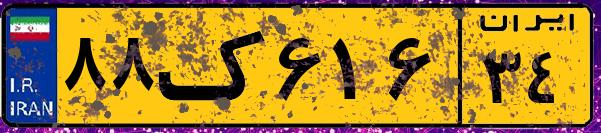1: (330, 28, 385, 110)
3: (475, 38, 525, 113)
4: (525, 38, 570, 115)
6: (270, 28, 330, 110), (385, 28, 445, 110)
8: (57, 26, 110, 100), (110, 28, 158, 98)
ک: (158, 12, 270, 120)
